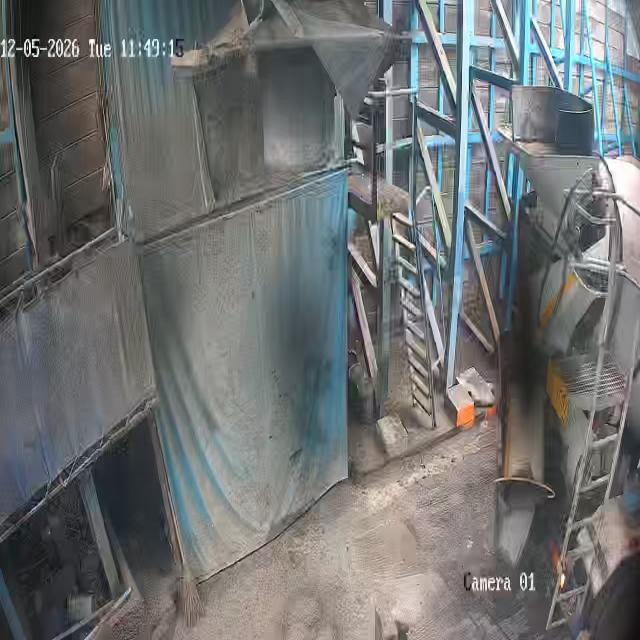cement_mixer_truck: (478, 120, 640, 640)
